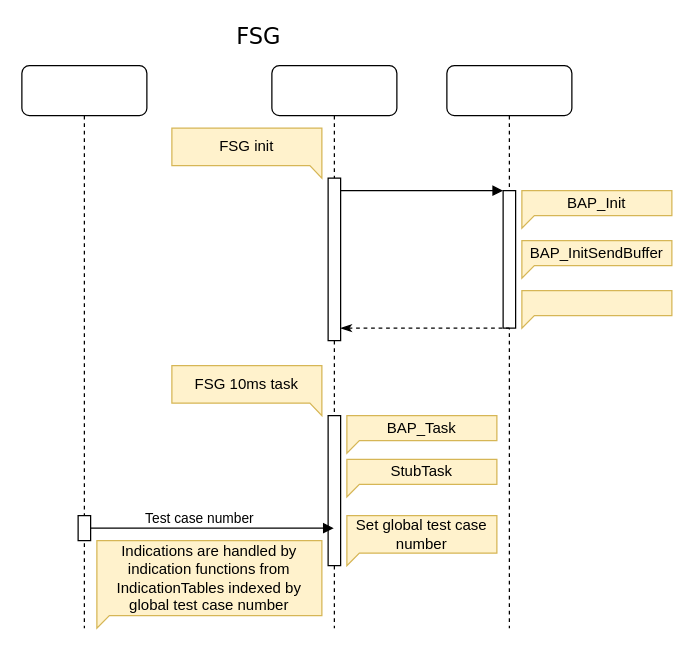
This 694x650 diagram has some shape labels left out. Each missing label, with the box of its shape:
ASG: (21, 64, 147, 628)
BAP_Start: (521, 289, 672, 328)
Stub: (271, 64, 397, 628)
StubTestCase41: (446, 64, 572, 628)
